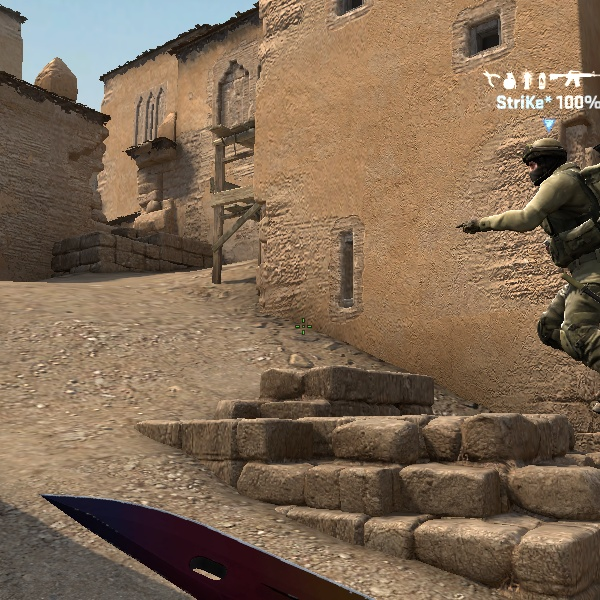ct_body: (482, 133, 596, 365)
ct_head: (519, 134, 571, 188)
